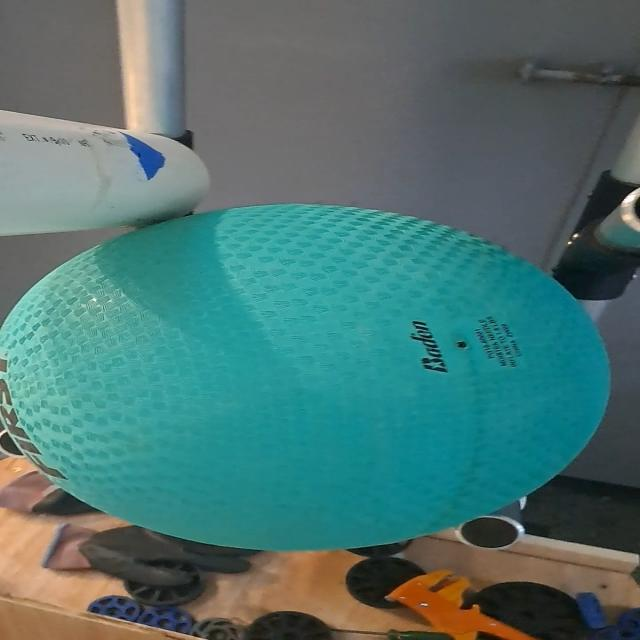ALGAE: (0, 196, 618, 552)
CORAL: (0, 96, 216, 240)
